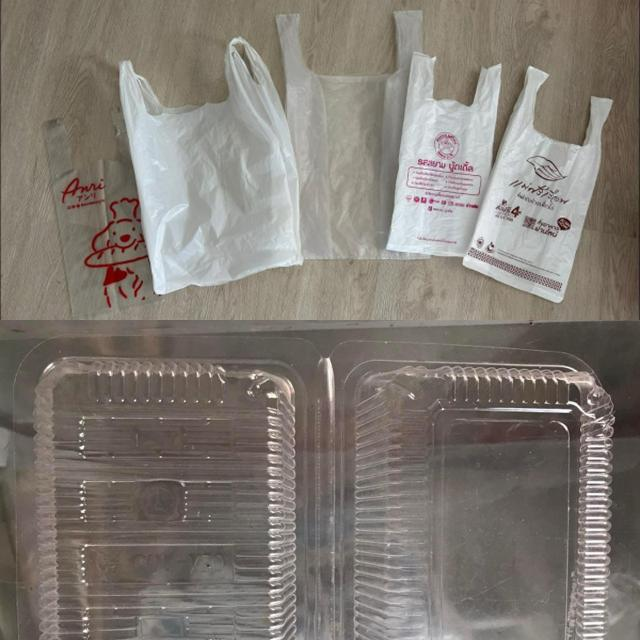Single-layer Plastic: (119, 38, 302, 294), (276, 11, 422, 259), (464, 66, 612, 302), (44, 112, 161, 318), (386, 52, 501, 256)
